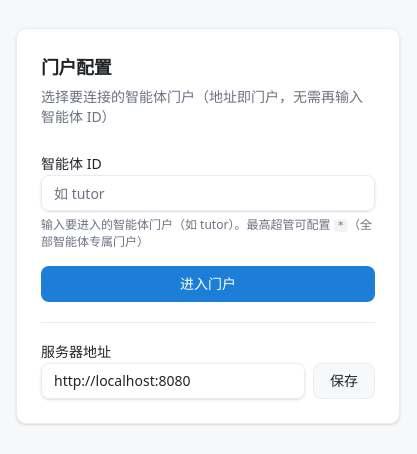
Test case: PortalConfigPage › 服务器地址设置区可见且可保存
This screenshot has width=417, height=454.
Type "http://10.0.0.2:8080" into the field labelled "服务器地址". click: (173,381)
box: [41,363,305,399]
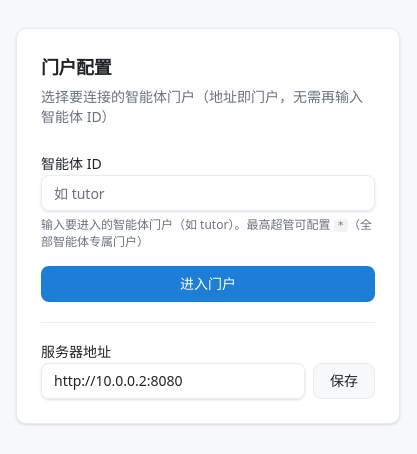
Click the button "保存". click: (344,381)
box: [313,363,375,399]
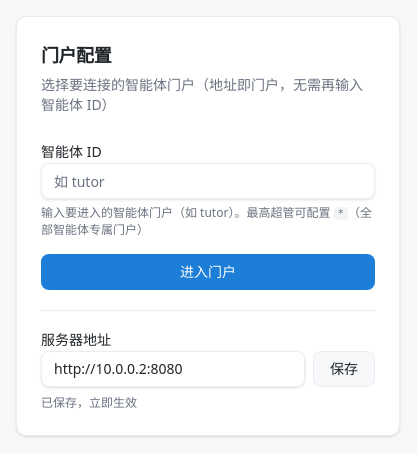
Result: the text "已保存，立即生效" is shown at [41,394,137,411]
